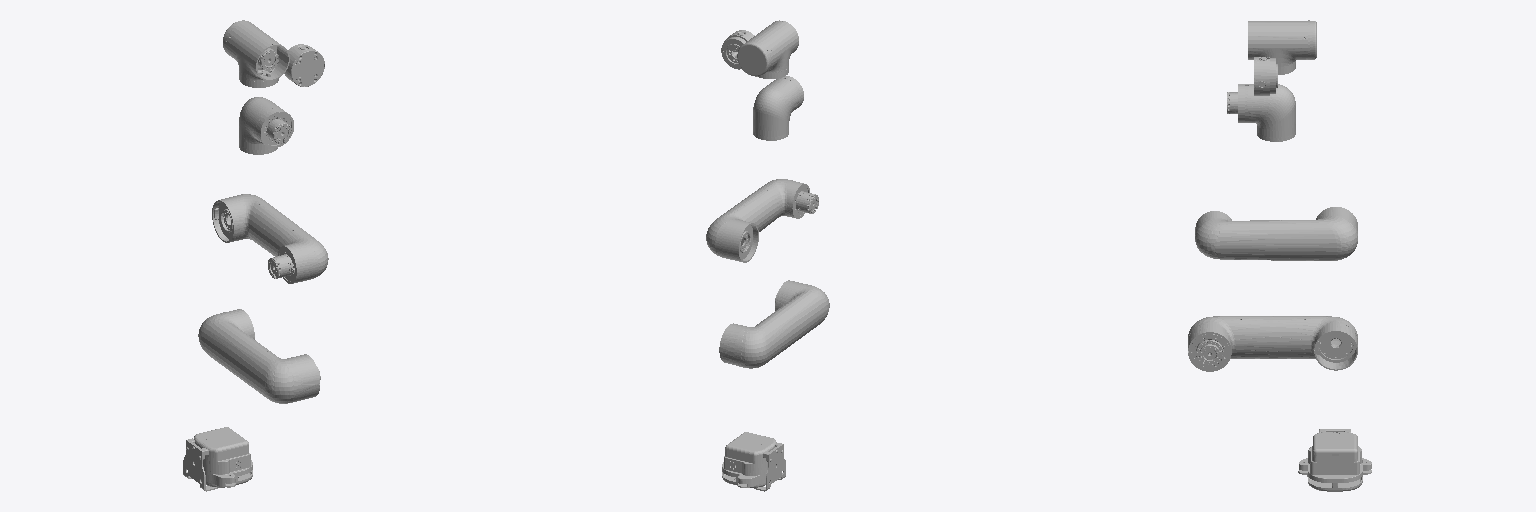
The robot description file, URDF, robot "mycobot_pro450":
<?xml version="1.0" encoding="utf-8"?>
<!-- This URDF was automatically created by SolidWorks to URDF Exporter! Originally created by Stephen Brawner (brawner@gmail.com) 
     Commit Version: 1.6.0-4-g7f85cfe  Build Version: 1.6.7995.38578
     For more information, please see http://wiki.ros.org/sw_urdf_exporter -->
<robot
  name="mycobot_pro450">
  <link                                                                                                                                                                           
    name="base_link">
    <inertial>
      <origin
        xyz="-0.0107 -0.0002 0.0723"
        rpy="0 0 0" />
      <mass
        value="2.2569" />
      <inertia
        ixx="0.0206"
        ixy="0"
        ixz="-0.0011"
        iyy="0.0225"
        iyz="0"
        izz="0.0057" />
    </inertial>
    <visual>
      <origin
        xyz="0 0 0"
        rpy="0 0 0" />
      <geometry>
        <mesh
          filename="package://mycobot_pro_450_description/meshes/base_link.STL" />
      </geometry>
      <material
        name="">
        <color
          rgba="0.75294 0.75294 0.75294 1" />
      </material>
    </visual>
    <collision>
      <origin
        xyz="0 0 0"
        rpy="0 0 0" />
      <geometry>
        <mesh
          filename="package://mycobot_pro_450_description/meshes/base_link.STL" />
      </geometry>
    </collision>
  </link>
  <link
    name="Link1">
    <inertial>
      <origin
        xyz="0.0005 -0.0269 -0.0023"
        rpy="0 0 0" />
      <mass
        value="0.7923" />
      <inertia
        ixx="0.0014"
        ixy="0"
        ixz="0"
        iyy="0.0005"
        iyz="0"
        izz="0.0014" />
    </inertial>
    <visual>
      <origin
        xyz="0 0 0"
        rpy="0 0 0" />
      <geometry>
        <mesh
          filename="package://mycobot_pro_450_description/meshes/Link1.STL" />
      </geometry>
      <material
        name="">
        <color
          rgba="0.75294 0.75294 0.75294 1" />
      </material>
    </visual>
    <collision>
      <origin
        xyz="0 0 0"
        rpy="0 0 0" />
      <geometry>
        <mesh
          filename="package://mycobot_pro_450_description/meshes/Link1.STL" />
      </geometry>
    </collision>
  </link>
  <joint
    name="joint1"
    type="revolute">
    <origin
      xyz="0 0 0.210000000061212"
      rpy="0 0 0" />
    <parent
      link="base_link" />
    <child
      link="Link1" />
    <axis
      xyz="0 0 1" />
    <limit
      lower="-2.88"
      upper="2.88"
      effort="0"
      velocity="0" />
  </joint>
  <link
    name="Link2">
    <inertial>
      <origin
        xyz="-0.1353 0.0001 0.0747"
        rpy="0 0 0" />
      <mass
        value="0.8204" />
      <inertia
        ixx="0.0051"
        ixy="0"
        ixz="-0.0079"
        iyy="0.0238"
        iyz="0"
        izz="0.0191" />
    </inertial>
    <visual>
      <origin
        xyz="0 0 0"
        rpy="0 0 0" />
      <geometry>
        <mesh
          filename="package://mycobot_pro_450_description/meshes/Link2.STL" />
      </geometry>
      <material
        name="">
        <color
          rgba="0.75294 0.75294 0.75294 1" />
      </material>
    </visual>
    <collision>
      <origin
        xyz="0 0 0"
        rpy="0 0 0" />
      <geometry>
        <mesh
          filename="package://mycobot_pro_450_description/meshes/Link2.STL" />
      </geometry>
    </collision>
  </link>
  <joint
    name="joint2"
    type="revolute">
    <origin
      xyz="0 0 0"
      rpy="1.57079632679529 1.5707963267949 0" />
    <parent
      link="Link1" />
    <child
      link="Link2" />
    <axis
      xyz="0 0 1" />
    <limit
      lower="-2.04"
      upper="2.04"
      effort="0"
      velocity="0" />
  </joint>
  <link
    name="Link3">
    <inertial>
      <origin
        xyz="-0.1141 -0.0001 0.013"
        rpy="0 0 0" />
      <mass
        value="0.6" />
      <inertia
        ixx="0.0005"
        ixy="0"
        ixz="-0.0011"
        iyy="0.0113"
        iyz="0"
        izz="0.011" />
    </inertial>
    <visual>
      <origin
        xyz="0 0 0"
        rpy="0 0 0" />
      <geometry>
        <mesh
          filename="package://mycobot_pro_450_description/meshes/Link3.STL" />
      </geometry>
      <material
        name="">
        <color
          rgba="0.75294 0.75294 0.75294 1" />
      </material>
    </visual>
    <collision>
      <origin
        xyz="0 0 0"
        rpy="0 0 0" />
      <geometry>
        <mesh
          filename="package://mycobot_pro_450_description/meshes/Link3.STL" />
      </geometry>
    </collision>
  </link>
  <joint
    name="joint3"
    type="revolute">
    <origin
      xyz="-0.179219598097142 0 0"
      rpy="0 0 0" />
    <parent
      link="Link2" />
    <child
      link="Link3" />
    <axis
      xyz="0 0 1" />
    <limit
      lower="-2.74"
      upper="2.74"
      effort="0"
      velocity="0" />
  </joint>
  <link
    name="Link4">
    <inertial>
      <origin
        xyz="-0.0218 0 -0.0064"
        rpy="0 0 0" />
      <mass
        value="0.4483" />
      <inertia
        ixx="0.0002"
        ixy="0"
        ixz="0"
        iyy="0.0006"
        iyz="0"
        izz="0.0006" />
    </inertial>
    <visual>
      <origin
        xyz="0 0 0"
        rpy="0 0 0" />
      <geometry>
        <mesh
          filename="package://mycobot_pro_450_description/meshes/Link4.STL" />
      </geometry>
      <material
        name="">
        <color
          rgba="0.75294 0.75294 0.75294 1" />
      </material>
    </visual>
    <collision>
      <origin
        xyz="0 0 0"
        rpy="0 0 0" />
      <geometry>
        <mesh
          filename="package://mycobot_pro_450_description/meshes/Link4.STL" />
      </geometry>
    </collision>
  </link>
  <joint
    name="joint4"
    type="revolute">
    <origin
      xyz="-0.173780401902847 0 0.0854905429592015"
      rpy="0 0 -1.5707963267949" />
    <parent
      link="Link3" />
    <child
      link="Link4" />
    <axis
      xyz="0 0 1" />
    <limit
      lower="-2.88"
      upper="2.88"
      effort="0"
      velocity="0" />
  </joint>
  <link
    name="Link5">
    <inertial>
      <origin
        xyz="0 -0.0089 -0.0044"
        rpy="0 0 0" />
      <mass
        value="0.4642" />
      <inertia
        ixx="0.0004"
        ixy="0"
        ixz="0"
        iyy="0.0002"
        iyz="0"
        izz="0.0004" />
    </inertial>
    <visual>
      <origin
        xyz="0 0 0"
        rpy="0 0 0" />
      <geometry>
        <mesh
          filename="package://mycobot_pro_450_description/meshes/Link5.STL" />
      </geometry>
      <material
        name="">
        <color
          rgba="0.75294 0.75294 0.75294 1" />
      </material>
    </visual>
    <collision>
      <origin
        xyz="0 0 0"
        rpy="0 0 0" />
      <geometry>
        <mesh
          filename="package://mycobot_pro_450_description/meshes/Link5.STL" />
      </geometry>
    </collision>
  </link>
  <joint
    name="joint5"
    type="revolute">
    <origin
      xyz="0 -0.097501 0"
      rpy="1.5708 -1.5708 0" />
    <parent
      link="Link4" />
    <child
      link="Link5" />
    <axis
      xyz="0 0 1" />
    <limit
      lower="-2.88"
      upper="2.88"
      effort="0"
      velocity="0" />
  </joint>
  <link
    name="Link6">
    <inertial>
      <origin
        xyz="0 -0.0001 -0.0138"
        rpy="0 0 0" />
      <mass
        value="0.129" />
      <inertia
        ixx="0.0001"
        ixy="0"
        ixz="0"
        iyy="0.0001"
        iyz="0"
        izz="0.0001" />
    </inertial>
    <visual>
      <origin
        xyz="0 0 0"
        rpy="0 0 0" />
      <geometry>
        <mesh
          filename="package://mycobot_pro_450_description/meshes/Link6.STL" />
      </geometry>
      <material
        name="">
        <color
          rgba="0.75294 0.75294 0.75294 1" />
      </material>
    </visual>
    <collision>
      <origin
        xyz="0 0 0"
        rpy="0 0 0" />
      <geometry>
        <mesh
          filename="package://mycobot_pro_450_description/meshes/Link6.STL" />
      </geometry>
    </collision>
  </link>
  <joint
    name="joint6"
    type="revolute">
    <origin
      xyz="0 0.063173 0.00020984"
      rpy="-1.5708 0 0" />
    <parent
      link="Link5" />
    <child
      link="Link6" />
    <axis
      xyz="0 0 1" />
    <limit
      lower="-2.93"
      upper="2.93"
      effort="0"
      velocity="0" />
  </joint>
</robot>

--- What the picture shows (computed from the rendered views, not written in the file) ---
The picture shows the robot from 3 angles, left to right: view 1: azimuth 30°, elevation 25°; view 2: azimuth 150°, elevation 25°; view 3: azimuth 270°, elevation 25°; orthographic projection.
Model mycobot_pro450 with 7 links and 6 joints (6 revolute), rooted at base_link, posed all joints at 0.
Visible links, largest first — view 1: Link2, Link3, base_link, Link5, Link4, Link6; view 2: Link2, Link3, base_link, Link5, Link4, Link6; view 3: Link2, Link3, base_link, Link5, Link4, Link6.
Boxes of the visible links, left/top/right/bottom form: Link2: left=198, top=309, right=320, bottom=403; Link3: left=212, top=194, right=328, bottom=283; base_link: left=183, top=427, right=252, bottom=491; Link5: left=223, top=20, right=289, bottom=87; Link4: left=239, top=97, right=293, bottom=154; Link6: left=284, top=44, right=324, bottom=86; Link2: left=719, top=280, right=829, bottom=368; Link3: left=706, top=179, right=818, bottom=262; base_link: left=722, top=432, right=785, bottom=491; Link5: left=737, top=20, right=798, bottom=78; Link4: left=753, top=76, right=803, bottom=140; Link6: left=721, top=30, right=754, bottom=69; Link2: left=1188, top=316, right=1357, bottom=371; Link3: left=1195, top=207, right=1357, bottom=260; base_link: left=1298, top=429, right=1371, bottom=491; Link5: left=1248, top=20, right=1316, bottom=74; Link4: left=1227, top=84, right=1295, bottom=141; Link6: left=1254, top=57, right=1277, bottom=95.
Bounding box of the posed robot: 0.1513 × 0.2633 × 0.7285 m (x, y, z).
Meshes: 7 distinct files referenced, 6 mesh visuals loaded (6 binary STL); not drawn: 1 (reference not matched to a file when rendering).
